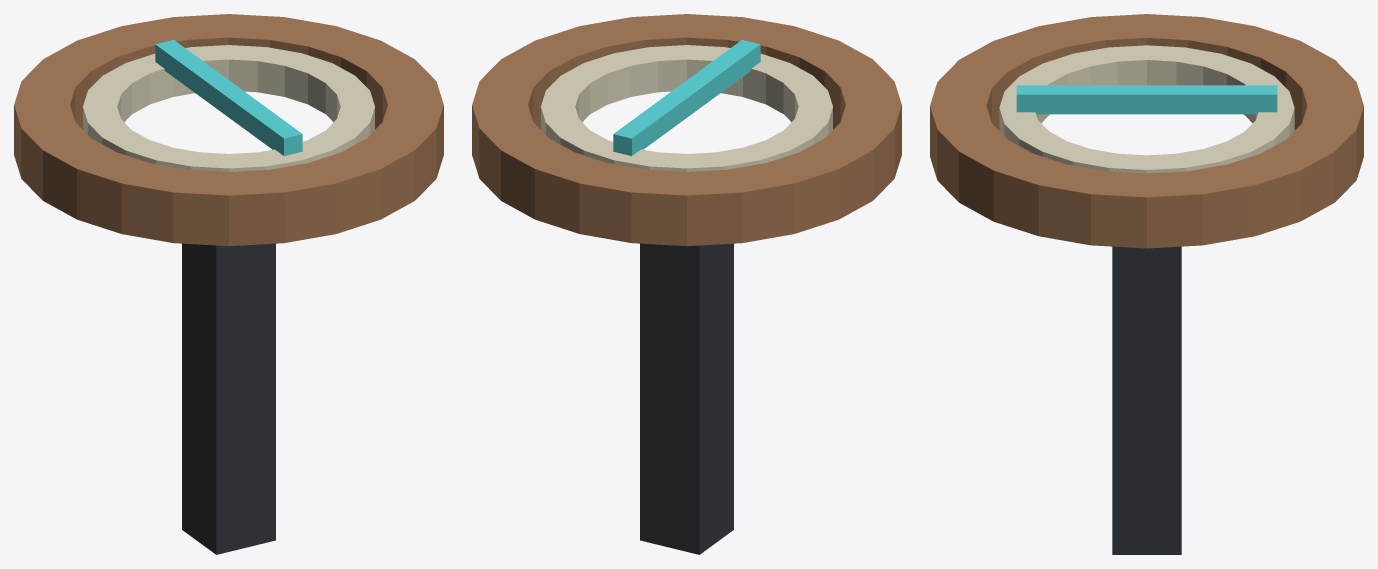
Rendered from shutter_lens.fbx.
3 renders of one model, left to right at view 1: azimuth 30°, elevation 25°; view 2: azimuth 150°, elevation 25°; view 3: azimuth 270°, elevation 25°, orthographic.
Parts seen in each view (by area): view 1: outer_dial.001, lens_grip, inner_dial.001, pointer.001; view 2: outer_dial.001, lens_grip, inner_dial.001, pointer.001; view 3: outer_dial.001, lens_grip, inner_dial.001, pointer.001.
Boxes of the visible parts, bbox=[...] form: outer_dial.001: bbox=[14, 14, 443, 246]; lens_grip: bbox=[182, 243, 275, 554]; inner_dial.001: bbox=[83, 45, 374, 171]; pointer.001: bbox=[155, 40, 302, 155]; outer_dial.001: bbox=[472, 14, 901, 246]; lens_grip: bbox=[640, 243, 733, 554]; inner_dial.001: bbox=[541, 45, 832, 171]; pointer.001: bbox=[613, 40, 760, 155]; outer_dial.001: bbox=[930, 14, 1363, 248]; lens_grip: bbox=[1112, 246, 1181, 554]; inner_dial.001: bbox=[999, 45, 1294, 173]; pointer.001: bbox=[1016, 85, 1277, 114].
Size of the model in its own units: 50 by 57.25 by 50.
